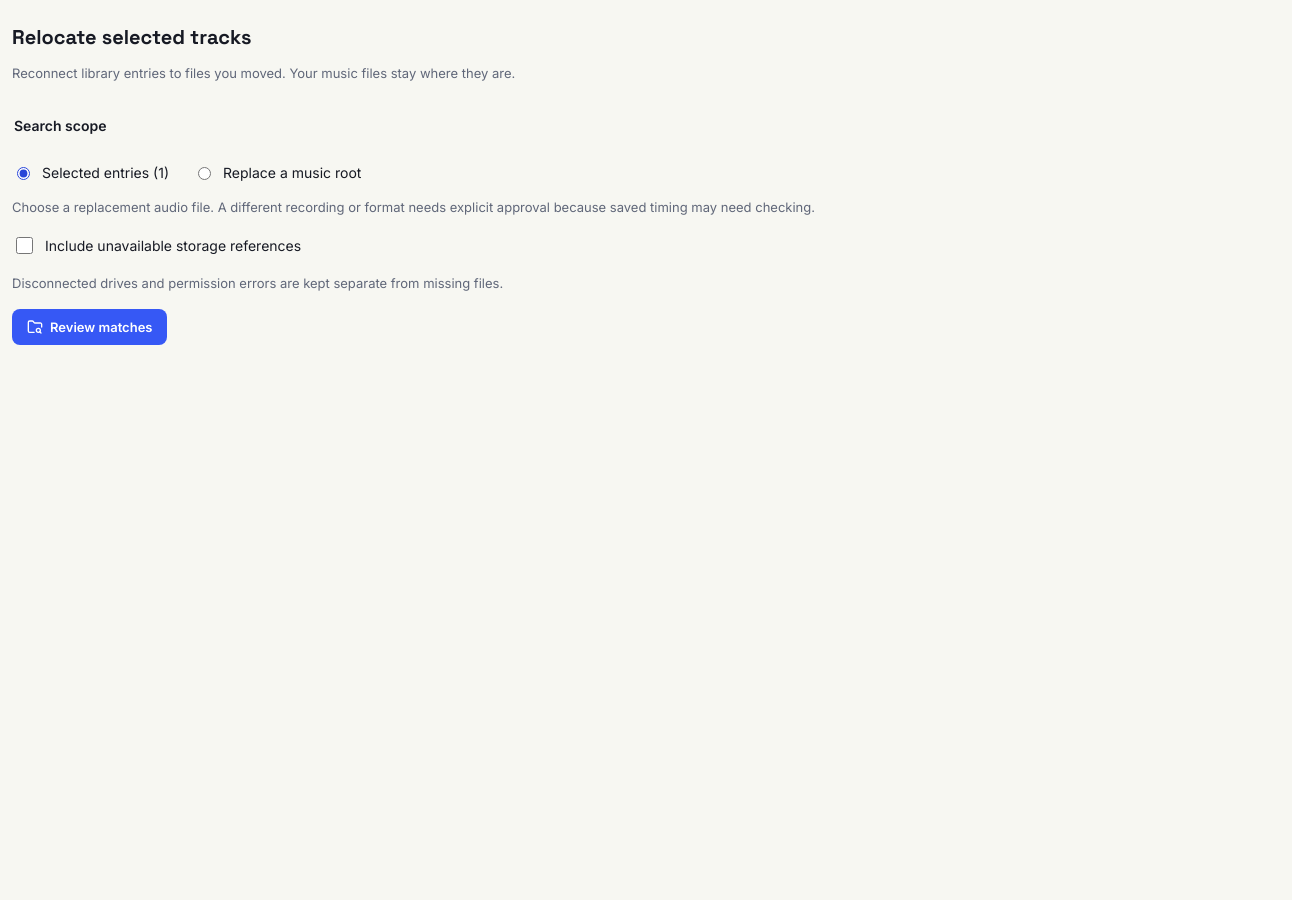
Test: shows the exact unsearched count when detailed paths are truncated
Click the button "Review matches" at (90, 327), box [12,309,168,345]
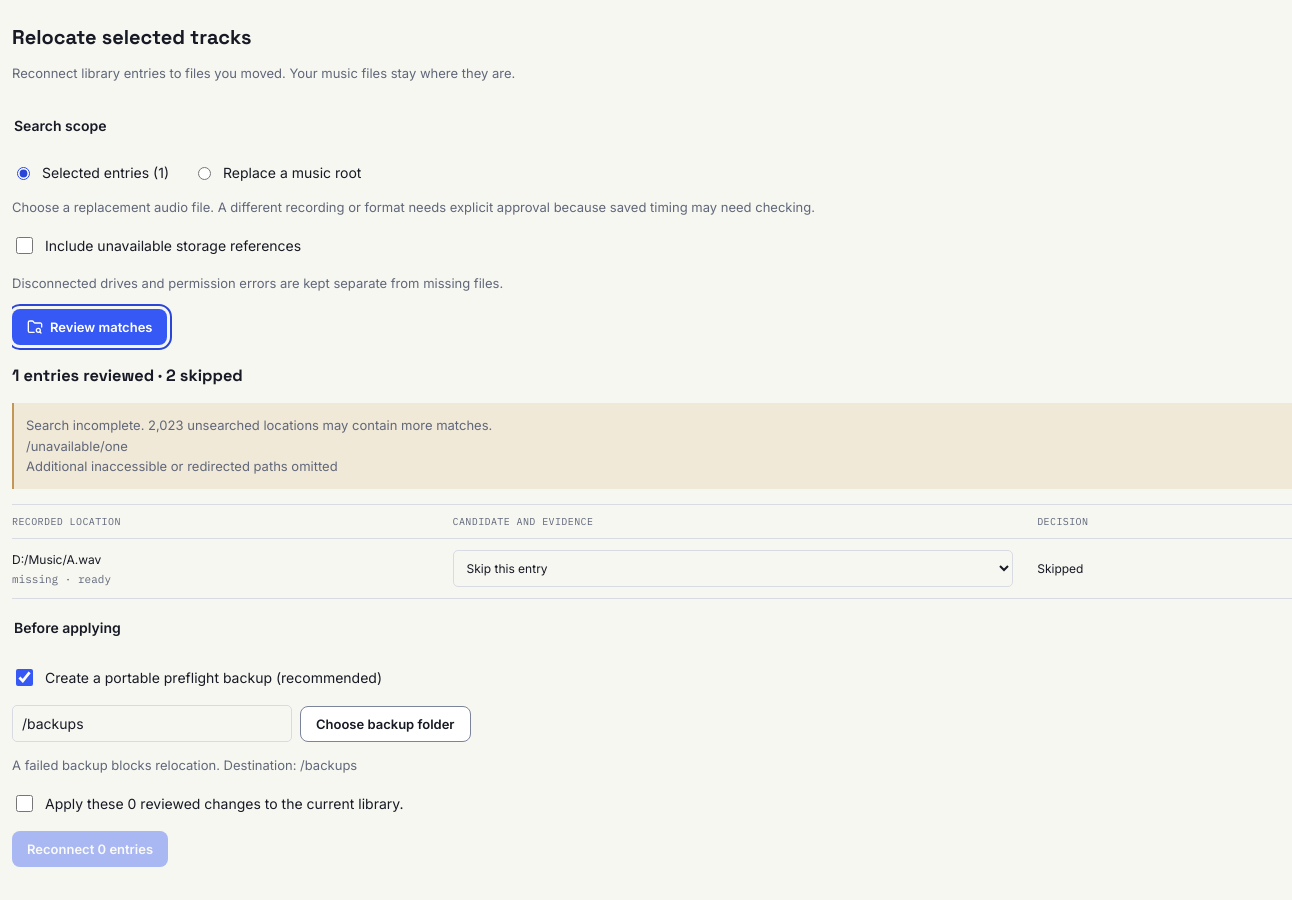
Now the text "2,023 unsearched locations may contain more matches" is shown, box [12,403,1291,489]
Now the text "Additional inaccessible or redirected paths omitted" is shown, box [26,458,338,474]
